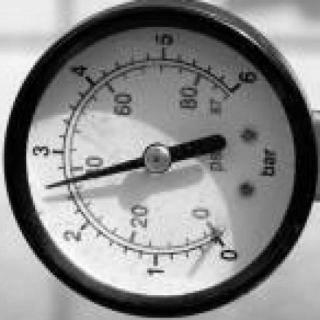gauge: (0, 0, 320, 320), (141, 142, 173, 176), (40, 177, 62, 196)
